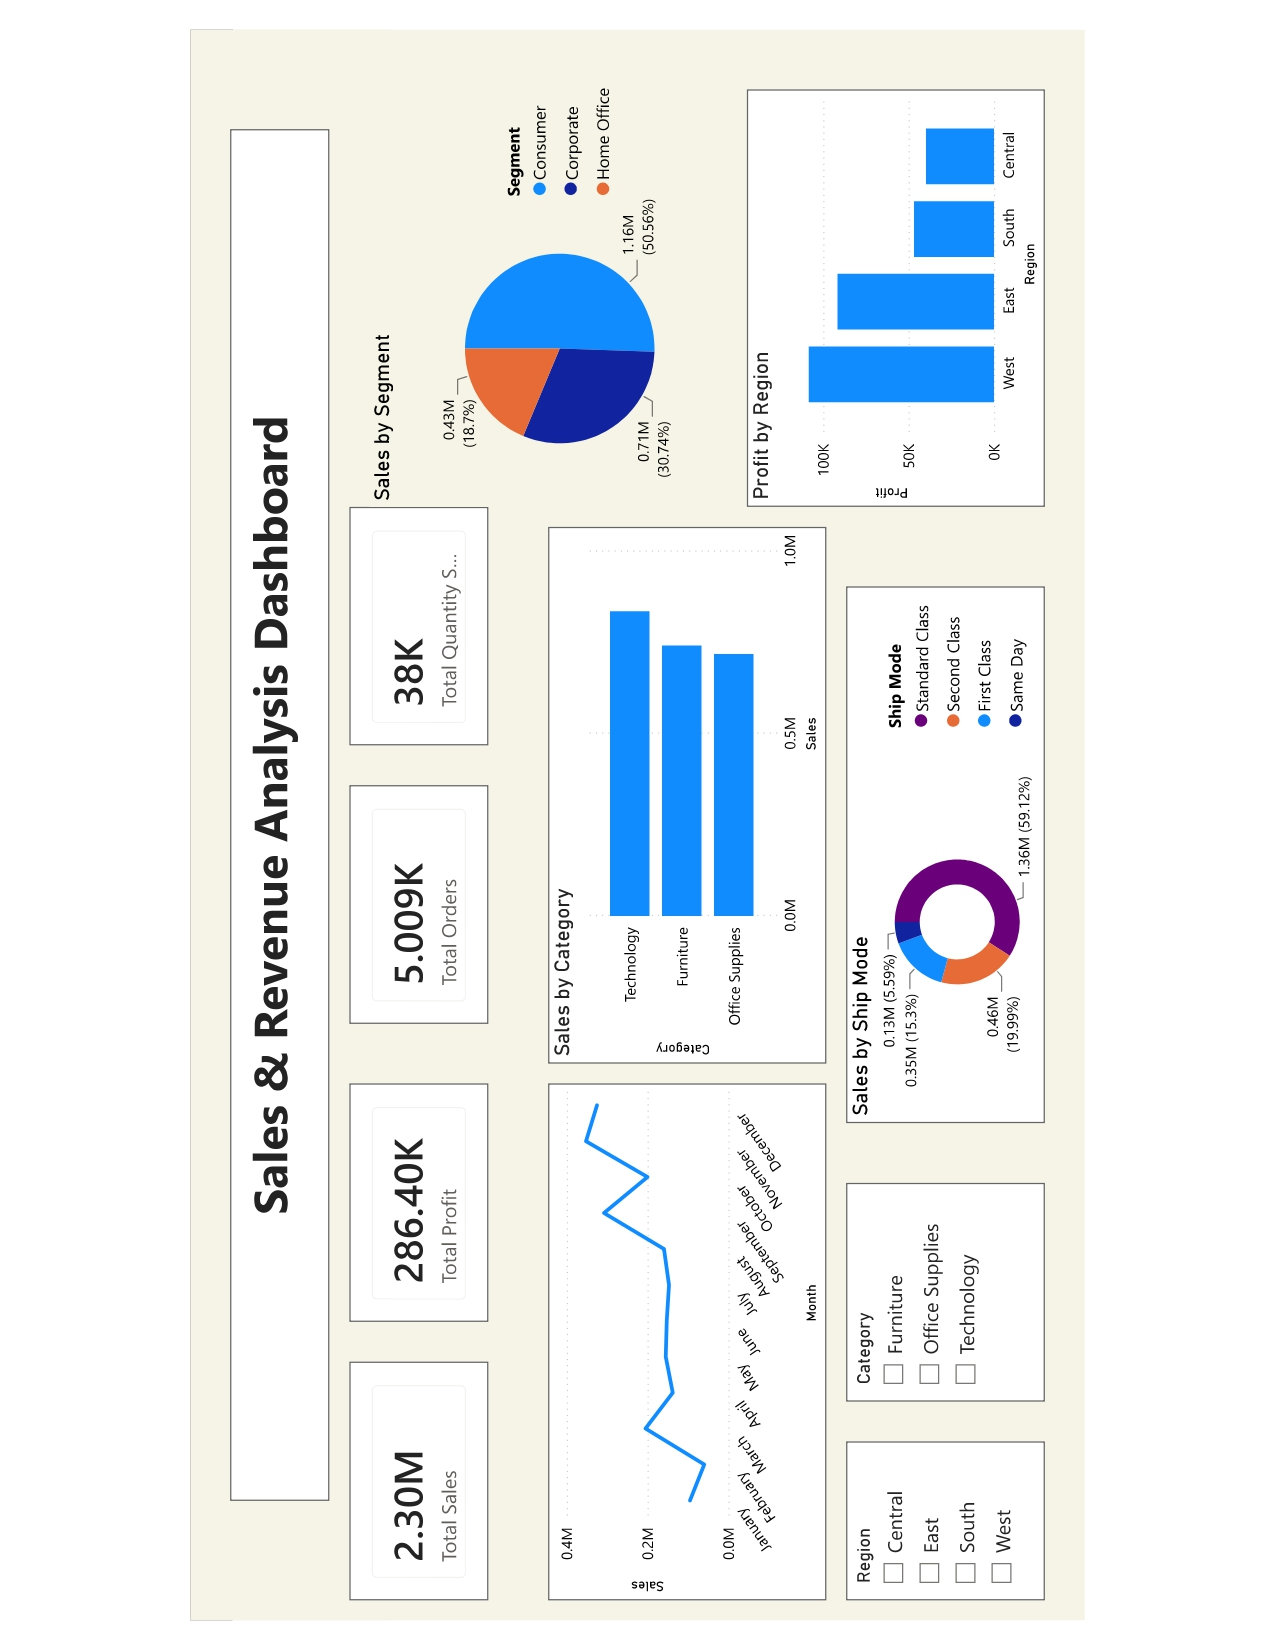

Layout of this report page (visuals, bound fields, positions):
{"tool":"powerbi","page":{"name":"Page 1","canvas":[1280,720],"ordinal":0},"visuals":[{"type":"cardVisual","fields":{"Data":["Sum(Sales & Revenue Analysis Dashboard.Sales)"]},"box":[16,128,192,112],"z":0},{"type":"cardVisual","fields":{"Data":["Sum(Sales & Revenue Analysis Dashboard.Profit)"]},"box":[240,128,192,112],"z":1000},{"type":"cardVisual","fields":{"Data":["Count(Sales & Revenue Analysis Dashboard.Order ID)"]},"box":[480,128,192,112],"z":2000},{"type":"cardVisual","fields":{"Data":["Sum(Sales & Revenue Analysis Dashboard.Quantity)"]},"box":[704,128,192,112],"z":3000},{"type":"lineChart","title":"Sales Trend","fields":{"Y":["Sum(Sales & Revenue Analysis Dashboard.Sales)"],"Category":["Sales & Revenue Analysis Dashboard.Order Date.Variation.Date Hierarchy.Month"]},"box":[16,288,416,224],"z":4000},{"type":"clusteredBarChart","title":"Sales by Category","fields":{"Category":["Sales & Revenue Analysis Dashboard.Category"],"Y":["Sum(Sales & Revenue Analysis Dashboard.Sales)"]},"box":[448,288,432,224],"z":4001},{"type":"clusteredColumnChart","fields":{"Category":["Sales & Revenue Analysis Dashboard.Region"],"Y":["Sum(Sales & Revenue Analysis Dashboard.Profit)"]},"box":[896,448,336,240],"z":4002},{"type":"pieChart","fields":{"Category":["Sales & Revenue Analysis Dashboard.Segment"],"Y":["Sum(Sales & Revenue Analysis Dashboard.Sales)"]},"box":[896,144,352,288],"z":4003},{"type":"slicer","fields":{"Values":["Sales & Revenue Analysis Dashboard.Region"]},"box":[16,528,128,160],"z":4004},{"type":"slicer","fields":{"Values":["Sales & Revenue Analysis Dashboard.Category"]},"box":[176,528,176,160],"z":4005},{"type":"donutChart","title":"Sales by Ship Mode","fields":{"Category":["Sales & Revenue Analysis Dashboard.Ship Mode"],"Y":["Sum(Sales & Revenue Analysis Dashboard.Sales)"]},"box":[400,528,432,160],"z":4006},{"type":"textbox","box":[96,32,1104,80],"z":4007}]}

Visuals, with their boxes on the page's 1280x720 design canvas (x1, y1, x2, y2). These are canvas units, not pixel positions in the 1275x1650 screenshot, which may show the page scaled, cropped or inside an application window:
cardVisual - Sum(Sales & Revenue Analysis Dashboard.Sales): x1=16 y1=128 x2=208 y2=240
cardVisual - Sum(Sales & Revenue Analysis Dashboard.Profit): x1=240 y1=128 x2=432 y2=240
cardVisual - Count(Sales & Revenue Analysis Dashboard.Order ID): x1=480 y1=128 x2=672 y2=240
cardVisual - Sum(Sales & Revenue Analysis Dashboard.Quantity): x1=704 y1=128 x2=896 y2=240
"Sales Trend" lineChart: x1=16 y1=288 x2=432 y2=512
"Sales by Category" clusteredBarChart: x1=448 y1=288 x2=880 y2=512
clusteredColumnChart - Sales & Revenue Analysis Dashboard.Region x Sum(Sales & Revenue Analysis Dashboard.Profit): x1=896 y1=448 x2=1232 y2=688
pieChart - Sales & Revenue Analysis Dashboard.Segment x Sum(Sales & Revenue Analysis Dashboard.Sales): x1=896 y1=144 x2=1248 y2=432
slicer - Sales & Revenue Analysis Dashboard.Region: x1=16 y1=528 x2=144 y2=688
slicer - Sales & Revenue Analysis Dashboard.Category: x1=176 y1=528 x2=352 y2=688
"Sales by Ship Mode" donutChart: x1=400 y1=528 x2=832 y2=688
textbox: x1=96 y1=32 x2=1200 y2=112
